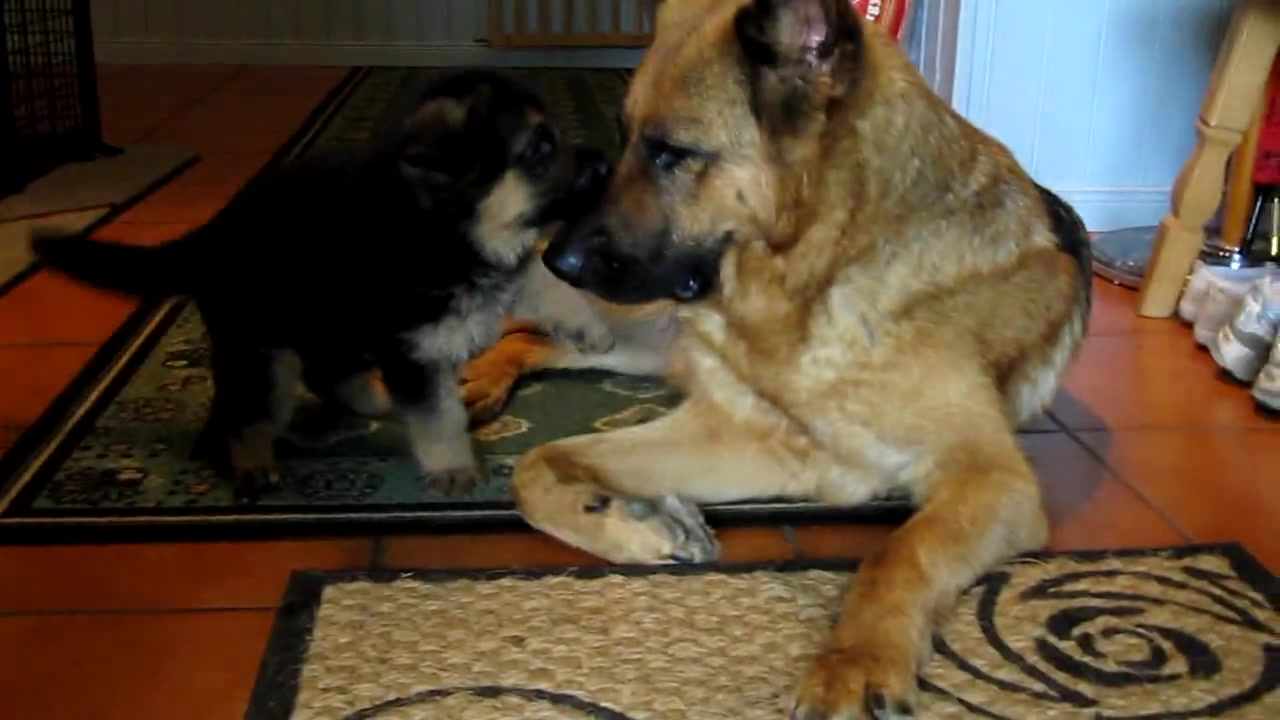dog: (26, 61, 618, 496)
